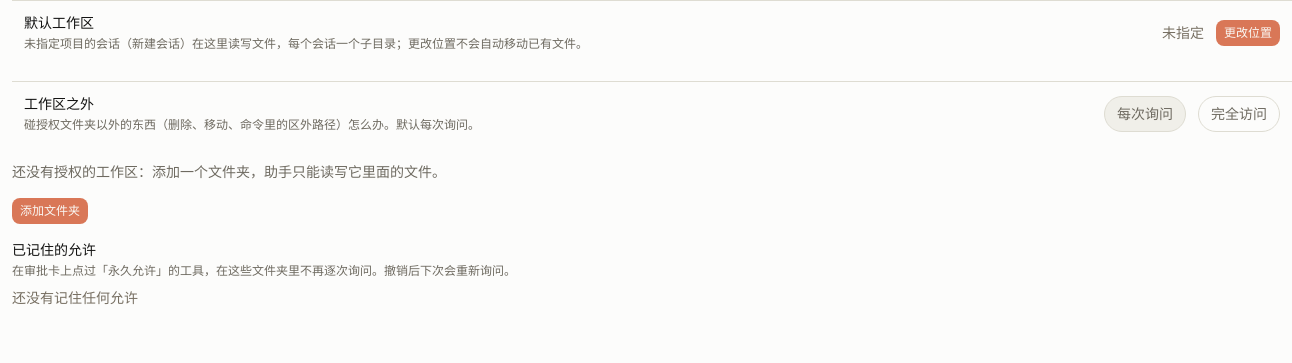
Scenario: 工作区组 · 添加（原生选择器） › 点「添加文件夹」→ workspace:pick，选中后列表里出现那一条
The image size is (1292, 363).
Click the button with test id "workspace-add" at [50, 211], box [12,198,88,224]
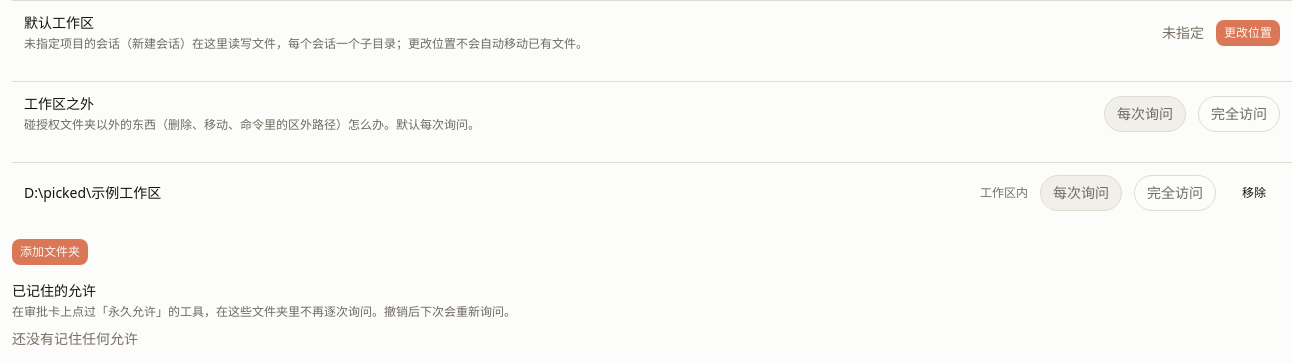
Check: the element with test id "workspace-0" shows "D:\\picked\\示例工作区", box [24,183,161,202]
Check: the text with test id "workspace-empty" is gone
